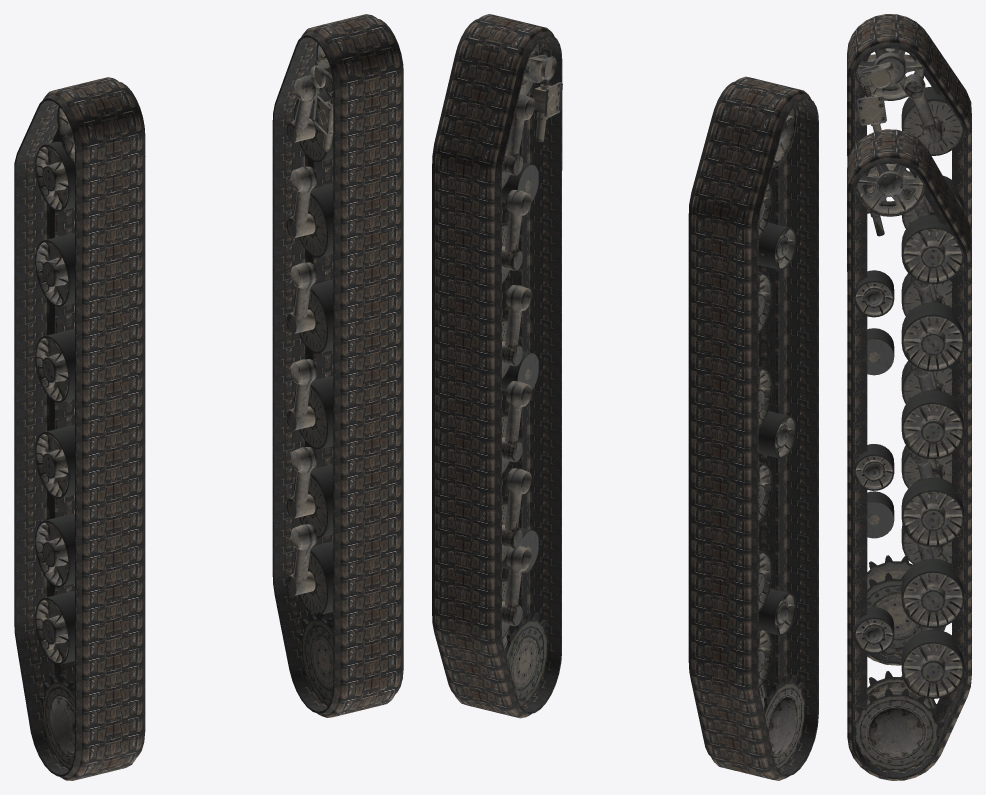
File: Chassis.glb
The picture shows the model from 3 angles, left to right: view 1: azimuth 30°, elevation 25°; view 2: azimuth 150°, elevation 25°; view 3: azimuth 270°, elevation 25°; orthographic projection. The views are drawn at different scales.
Visible parts, largest first — view 1: set_0_group_0, set_1_group_0, set_3_group_0, set_2_group_0; view 2: set_0_group_0, set_1_group_0, set_3_group_0, set_2_group_0; view 3: set_3_group_0, set_1_group_0, set_2_group_0, set_0_group_0.
Part boxes in pixels (<box>): set_0_group_0: <box>14,77,145,780</box>; set_1_group_0: <box>272,14,403,717</box>; set_3_group_0: <box>286,44,333,706</box>; set_2_group_0: <box>35,106,145,769</box>; set_0_group_0: <box>688,76,818,780</box>; set_1_group_0: <box>432,14,562,718</box>; set_3_group_0: <box>501,44,562,706</box>; set_2_group_0: <box>758,105,804,769</box>; set_3_group_0: <box>855,163,964,770</box>; set_1_group_0: <box>847,129,971,780</box>; set_2_group_0: <box>855,48,963,655</box>; set_0_group_0: <box>847,14,971,665</box>.
Size of the model in its own units: 3.31 by 6.63 by 1.19.
4 materials, 4 textured.
